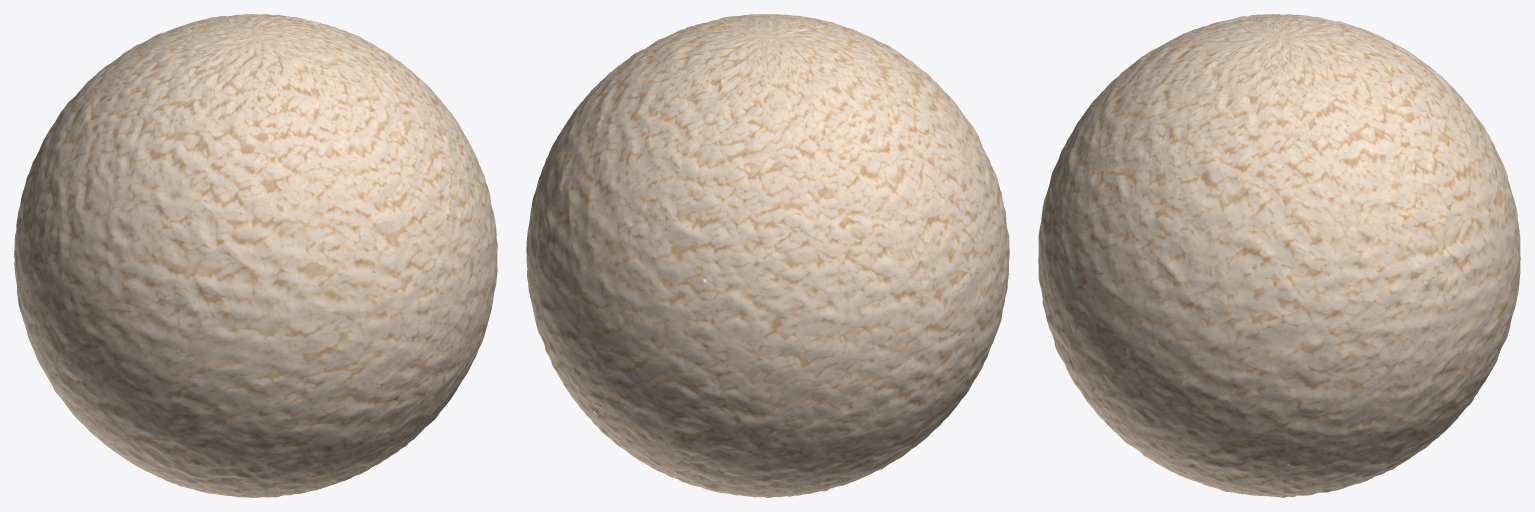
File: curly_teddy_natural_2k.gltf
The picture shows the model from 3 angles, left to right: view 1: azimuth 30°, elevation 25°; view 2: azimuth 150°, elevation 25°; view 3: azimuth 270°, elevation 25°; orthographic projection.
Visible parts, largest first — view 1: sphere_gltf; view 2: sphere_gltf; view 3: sphere_gltf.
Part boxes in pixels (x1,y1,x2,y2): sphere_gltf: (14, 14, 497, 497); sphere_gltf: (526, 14, 1009, 497); sphere_gltf: (1038, 14, 1520, 497).
Bounding box in the file's own units: 0.3313 × 0.3318 × 0.3307.
